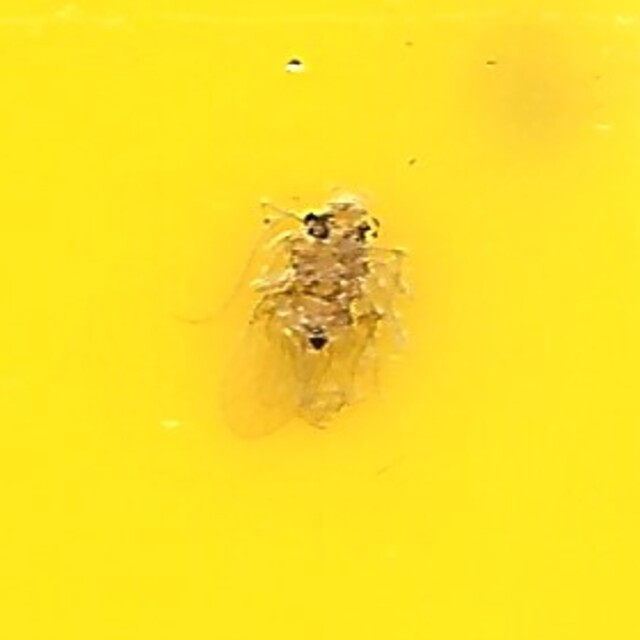Hemiptera: (229, 195, 411, 445)
